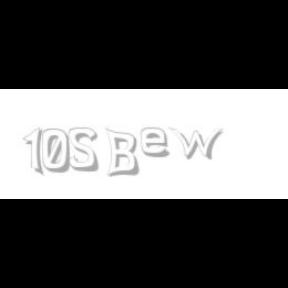0: (42, 128, 74, 174)
1: (22, 128, 44, 176)
B: (105, 128, 139, 178)
S: (68, 128, 100, 172)
e: (140, 128, 173, 158)
w: (168, 128, 228, 160)
